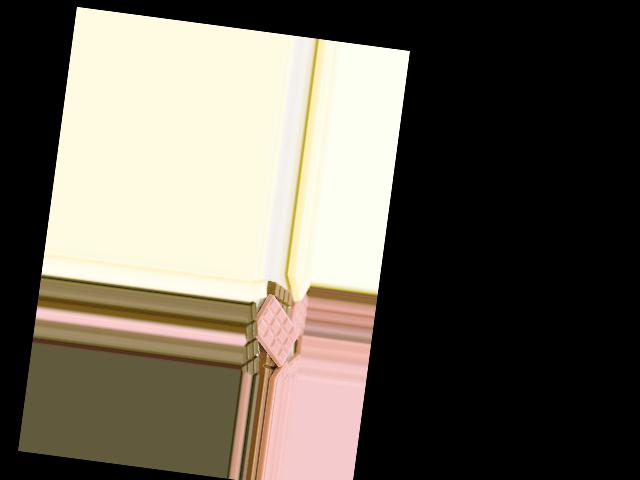chocolate: (241, 292, 305, 369)
